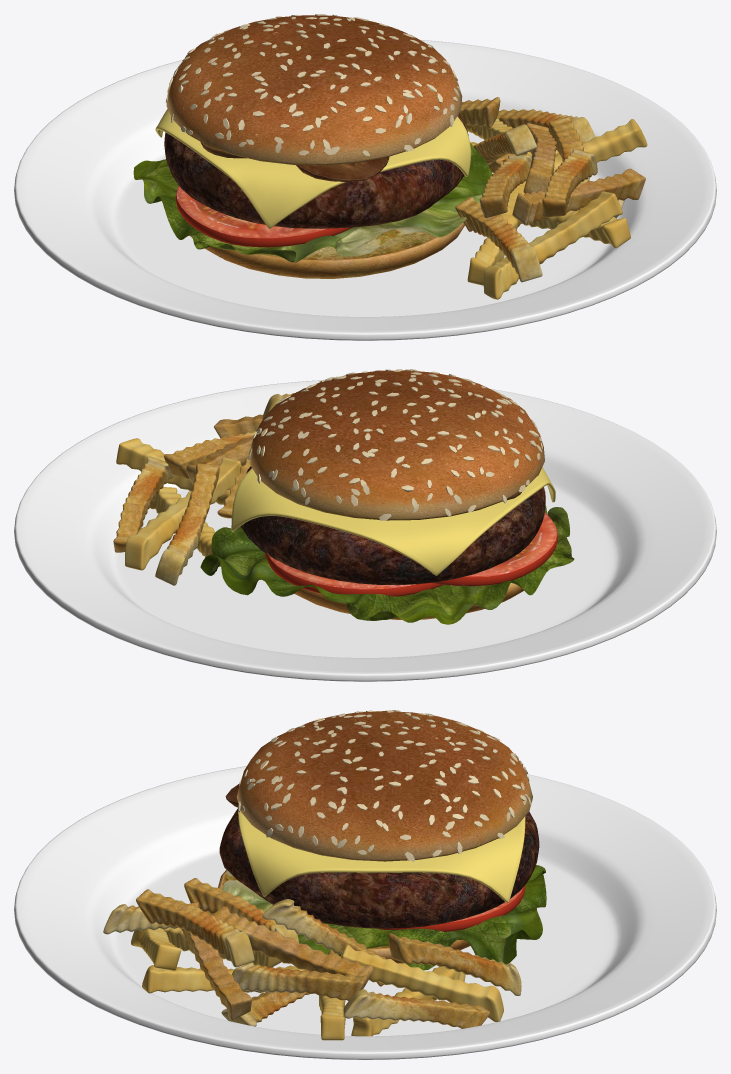
File: crispy-burger-fries.glb
3 renders of one model, top to bottom at view 1: azimuth 30°, elevation 25°; view 2: azimuth 150°, elevation 25°; view 3: azimuth 270°, elevation 25°, orthographic.
Parts seen in each view (by area): view 1: Material2 (×9); view 2: Material2 (×8); view 3: Material2 (×8).
Boxes of the visible parts, left/top/right/bottom form: Material2 (×9): left=14, top=14, right=716, bottom=340; Material2 (×8): left=14, top=369, right=716, bottom=681; Material2 (×8): left=14, top=710, right=716, bottom=1059.
Size of the model in its own units: 10.92 by 3.17 by 10.92.
10 materials, 7 textured.
